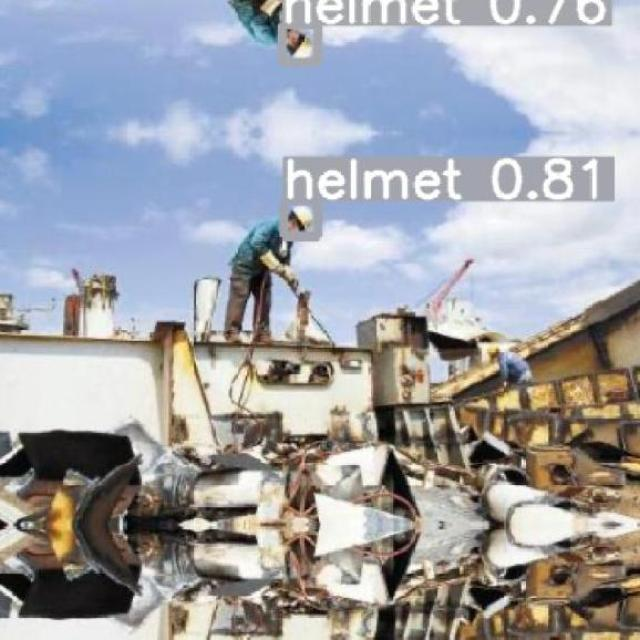white helmet: (286, 198, 314, 232)
